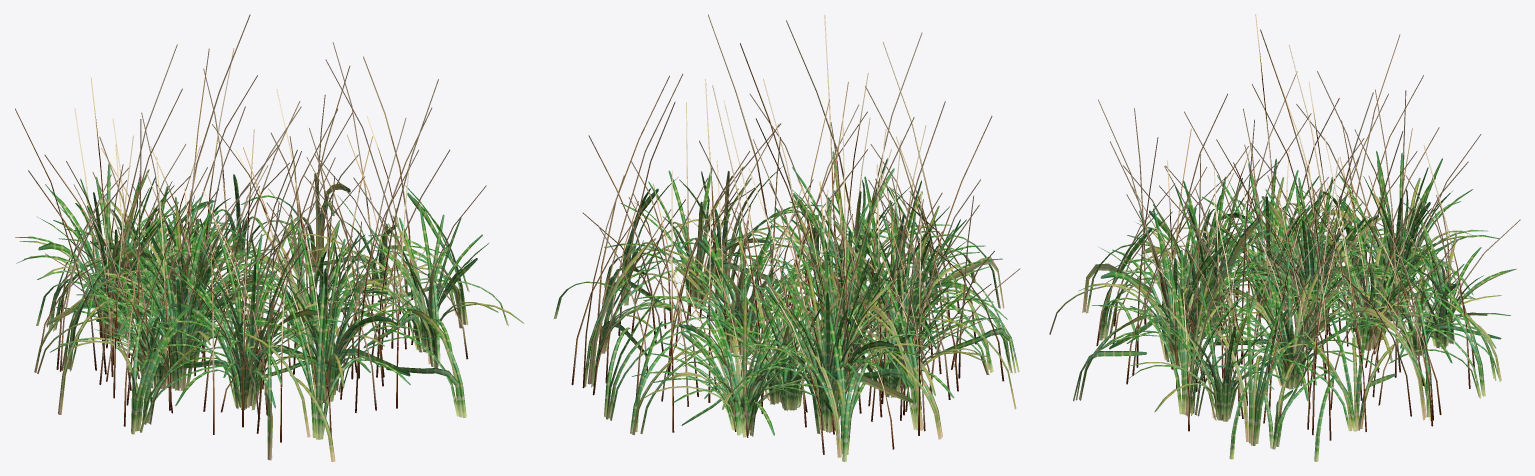
Rendered from foliage_set5_033.FBX.
The picture shows the model from 3 angles, left to right: view 1: azimuth 30°, elevation 25°; view 2: azimuth 150°, elevation 25°; view 3: azimuth 270°, elevation 25°; orthographic projection. The views are drawn at different scales.
Parts seen in each view (by area): view 1: Grass_033; view 2: Grass_033; view 3: Grass_033.
Part boxes in pixels (x1,y1,x2,y2): Grass_033: (15, 14, 524, 461); Grass_033: (553, 14, 1020, 461); Grass_033: (1049, 14, 1520, 461).
Bounding box in the file's own units: 3.7 × 2.47 × 3.66.
Materials: 1 (1 with a texture image).
